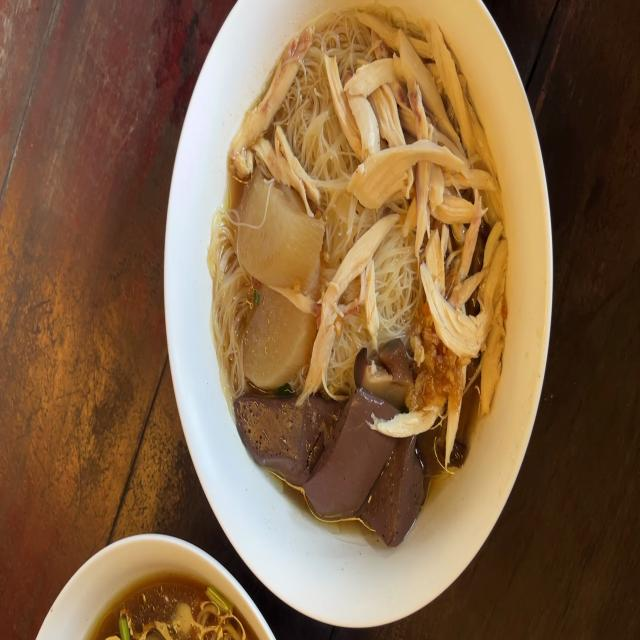noodle: (200, 0, 514, 542)
